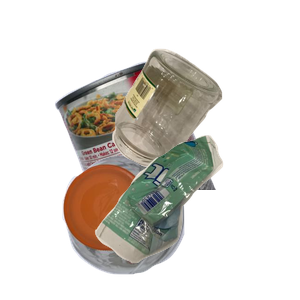glass: (110, 46, 300, 205)
metal: (52, 57, 260, 237)
plastic: (60, 152, 237, 300)
trash: (92, 133, 300, 300)
